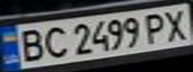2: (69, 20, 93, 56)
4: (90, 18, 112, 53)
9: (121, 14, 145, 48), (106, 16, 127, 52)
B: (12, 26, 48, 63)
C: (39, 25, 69, 60)
P: (139, 10, 172, 45)
X: (157, 7, 193, 42)
